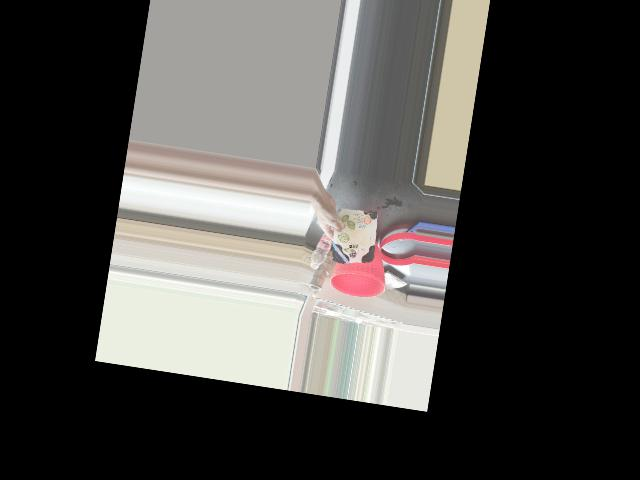cheese: (318, 209, 379, 268)
